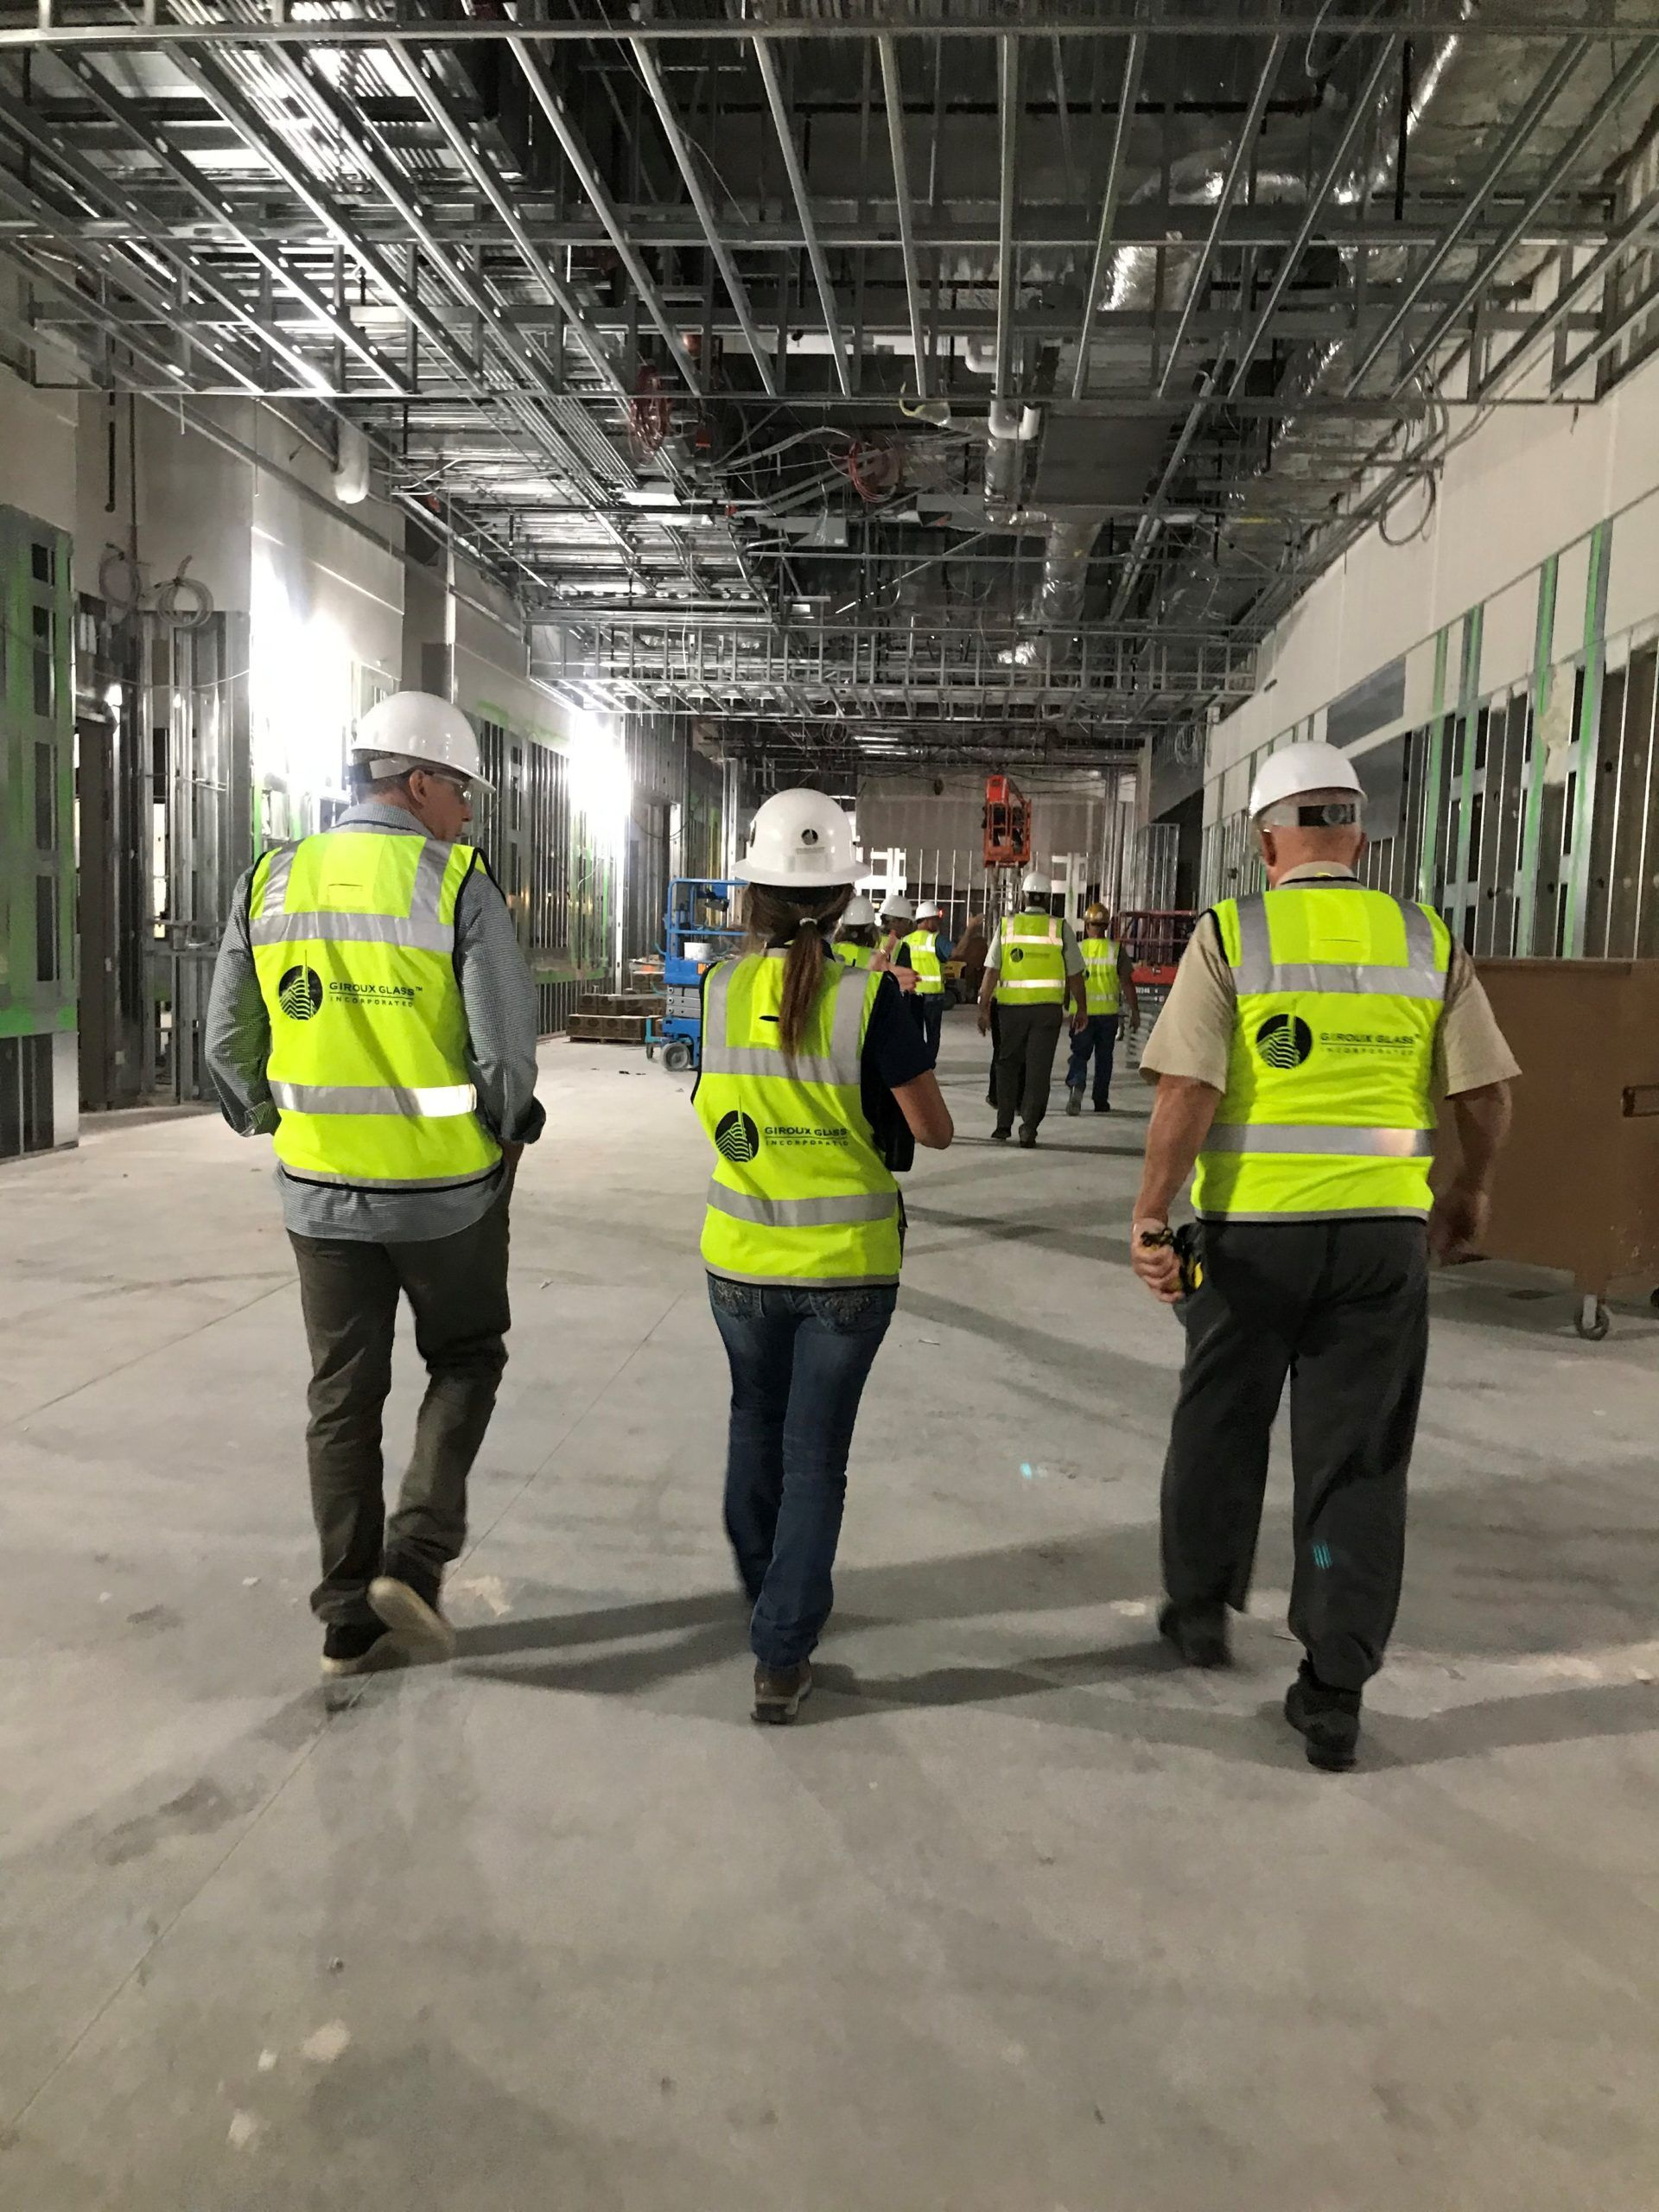Helmet: (1237, 732, 1385, 902), (727, 777, 870, 948), (342, 681, 504, 813), (1011, 864, 1060, 916), (878, 883, 915, 930), (1079, 894, 1117, 935), (836, 892, 880, 928), (908, 894, 950, 928)
Reflective vest: (237, 817, 533, 1209), (1178, 885, 1450, 1240), (688, 935, 922, 1310), (995, 913, 1073, 1007), (1070, 937, 1133, 1024), (913, 932, 943, 996)
